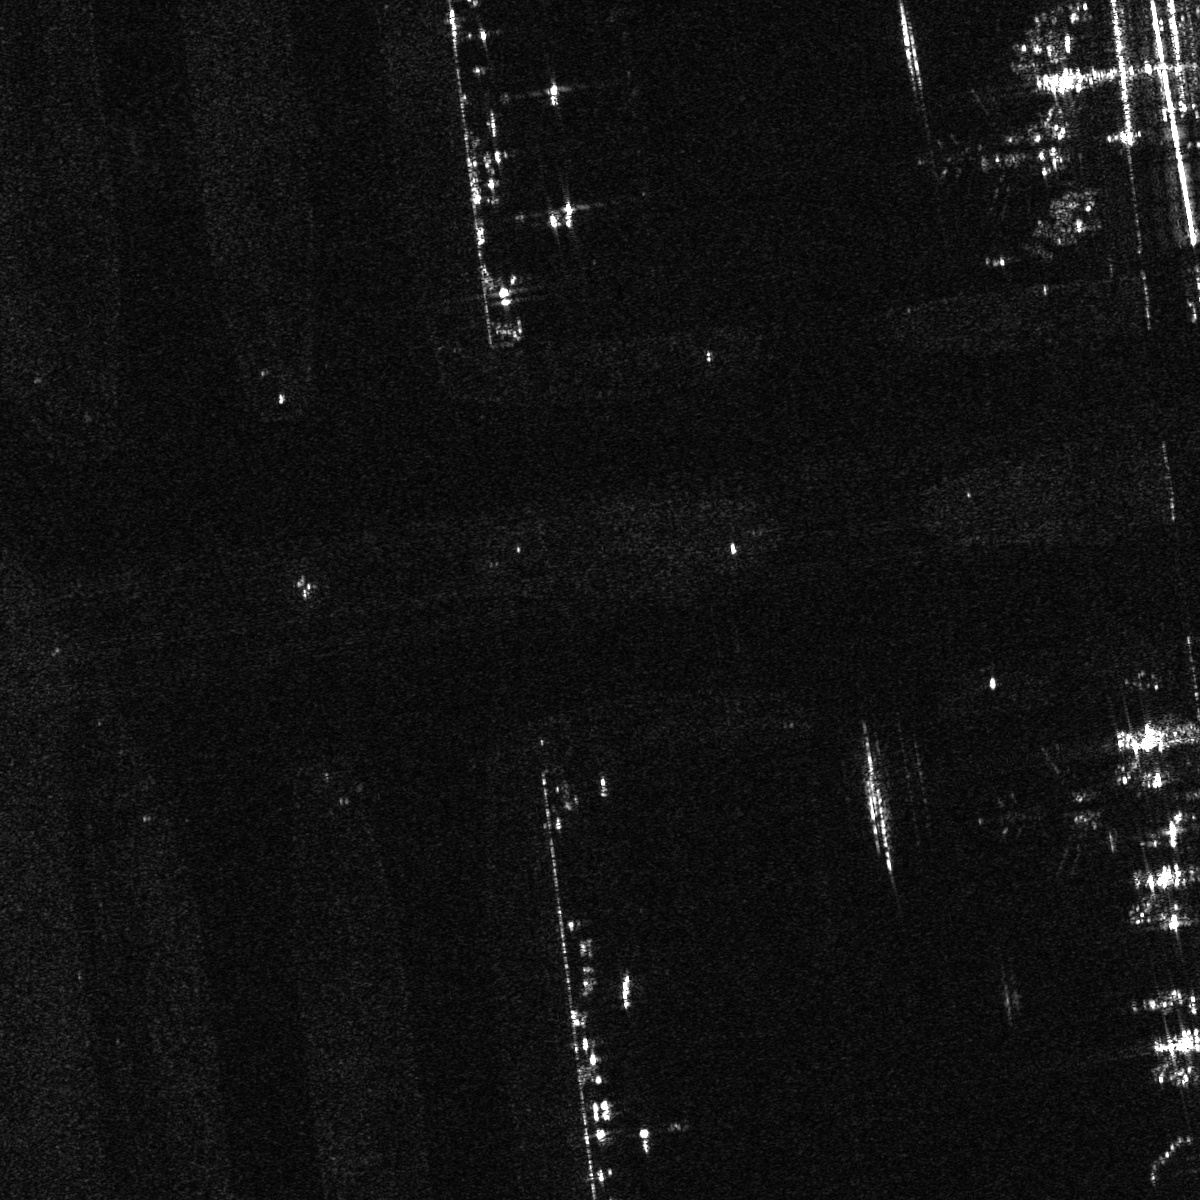A330: (918, 95, 1033, 216)
other: (975, 743, 1116, 891)
